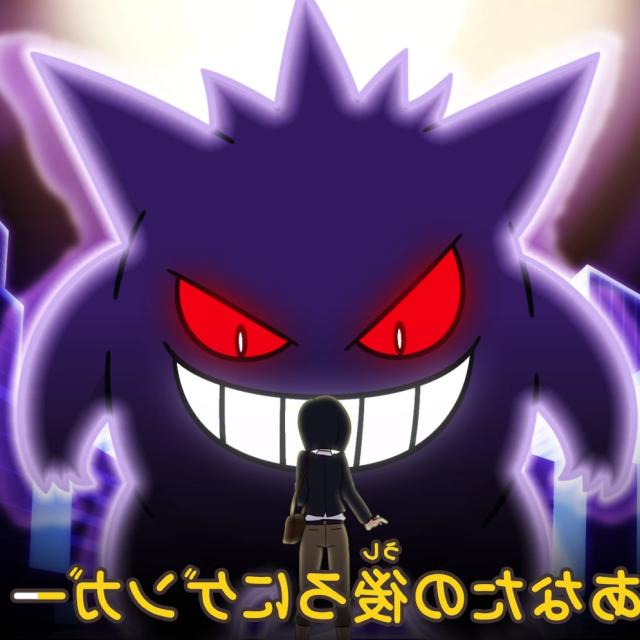Gengar: (24, 46, 604, 575)
